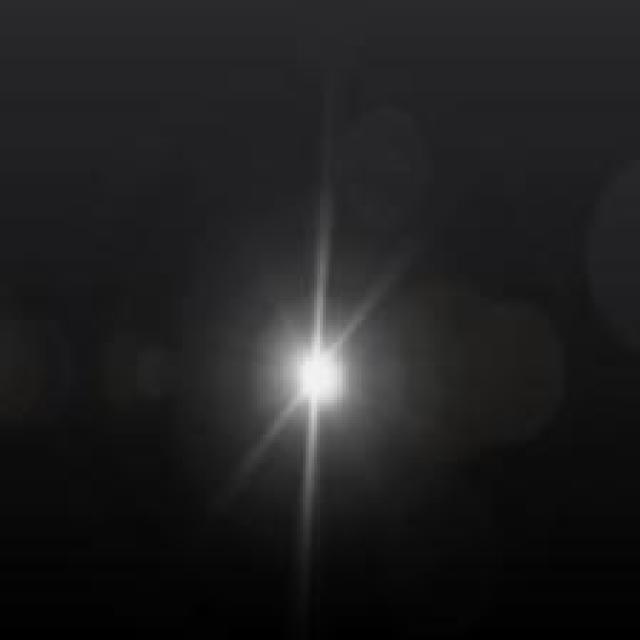other: (273, 311, 388, 451)
